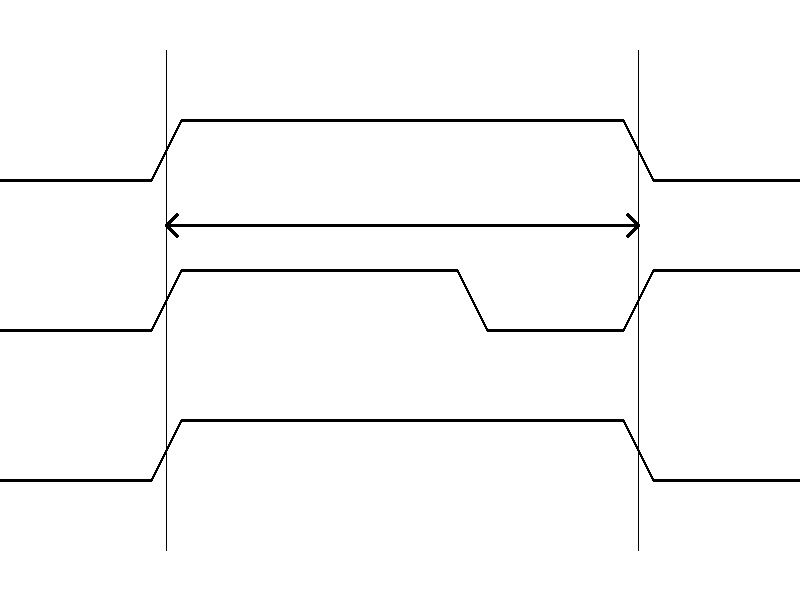double_arrow: (166, 210, 638, 240)
